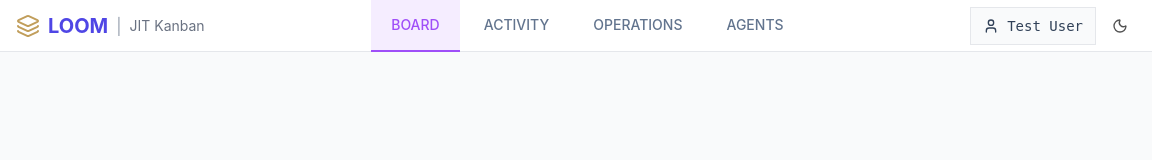
TopNav › when authenticated › closes the dropdown when clicking outside
Click the button named "User menu". click: (1033, 26)
box: [970,6,1096,44]
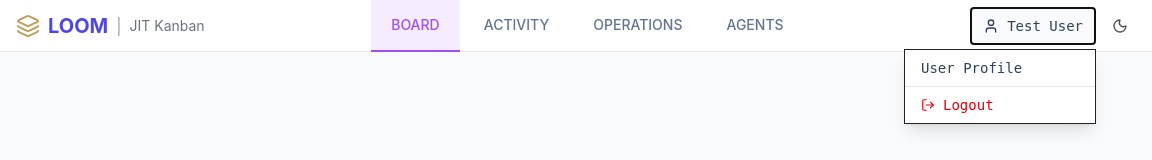
Expected: the button "User Profile" is shown, [905,50,1095,86]
Note: Click on the brand text (outside the dropdown)
Click the text "LOOM". click: (78, 26)
box: [48,12,108,40]
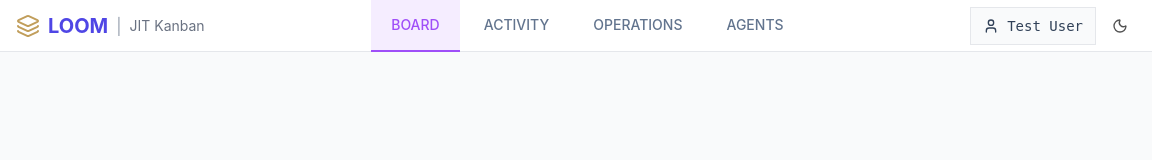
Expected: the button "User Profile" is gone
